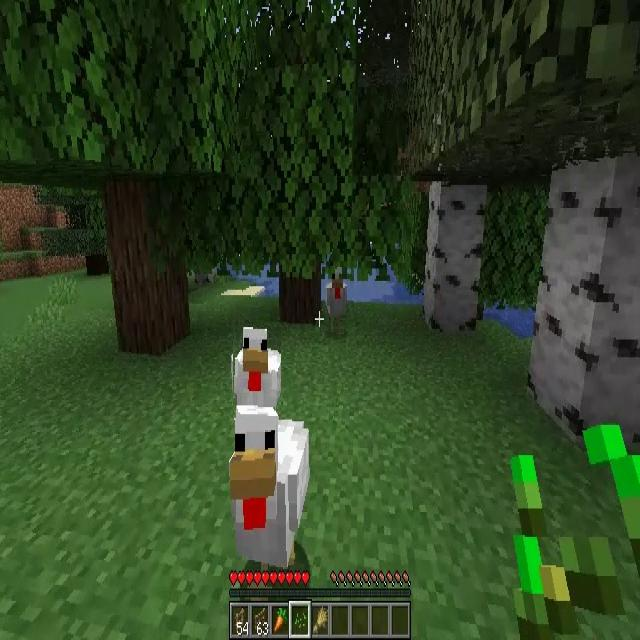duck: (230, 407, 310, 571), (233, 327, 281, 420), (325, 267, 347, 337)
